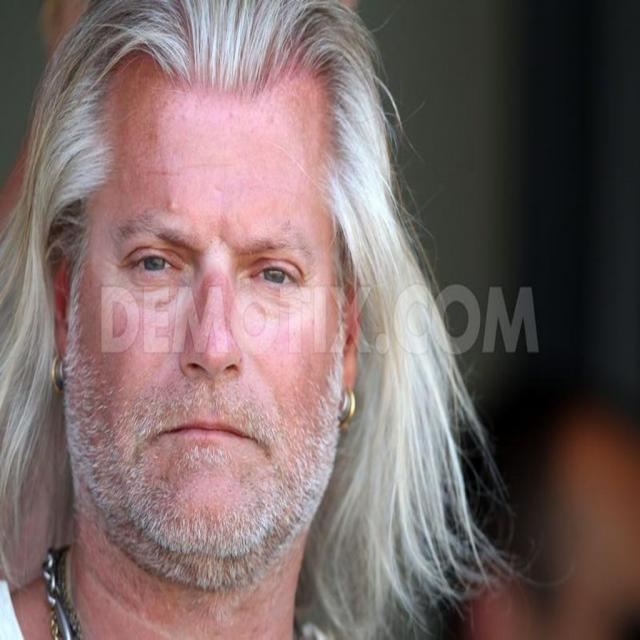nomask: (75, 73, 330, 579)
